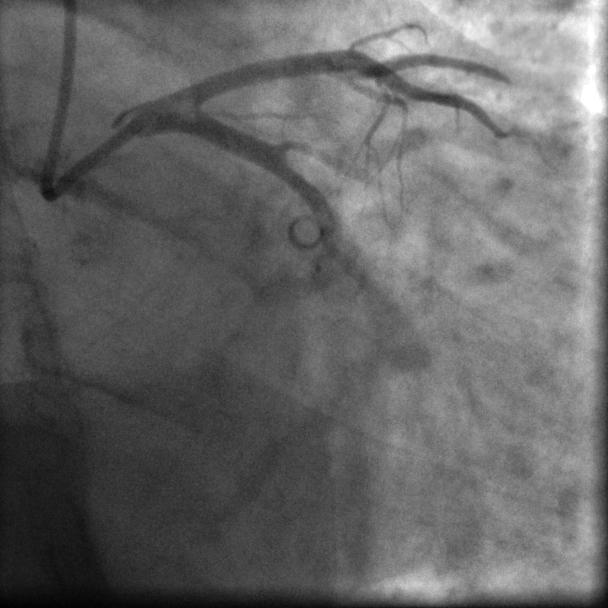Stenosis: (278, 137, 306, 154)
